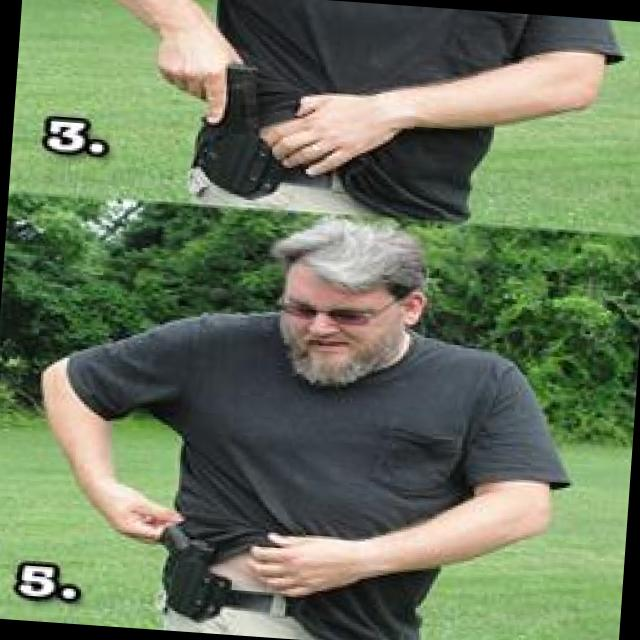Guns: (134, 508, 237, 624), (198, 49, 284, 162)
